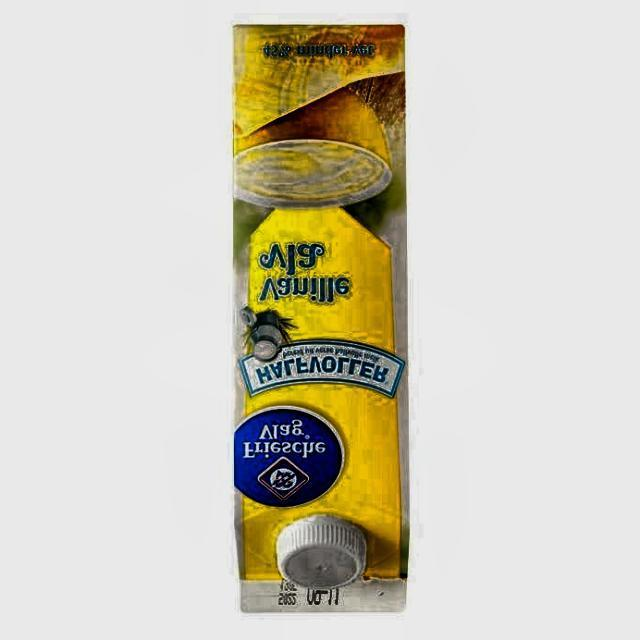cardboard: (231, 25, 409, 614)
